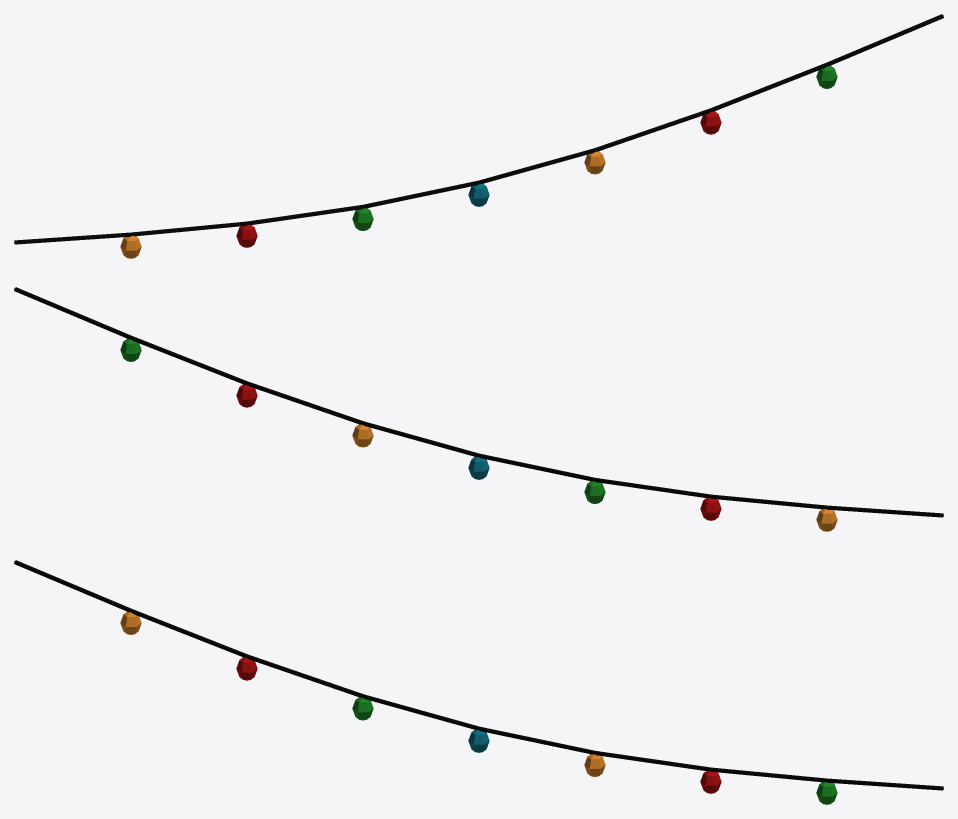
Rendered from SM_Hide_StringLights_4m.glb.
3 renders of one model, top to bottom at view 1: azimuth 30°, elevation 25°; view 2: azimuth 150°, elevation 25°; view 3: azimuth 330°, elevation 25°, orthographic.
Visible parts, largest first — view 1: SM_Hide_StringLights_4m; view 2: SM_Hide_StringLights_4m; view 3: SM_Hide_StringLights_4m.
Boxes of the visible parts, x1=… form: SM_Hide_StringLights_4m: x1=14, y1=14, x2=943, y2=258; SM_Hide_StringLights_4m: x1=14, y1=287, x2=943, y2=531; SM_Hide_StringLights_4m: x1=14, y1=560, x2=943, y2=804.
Bounding box in the file's own units: 4 × 0.3259 × 0.08.
